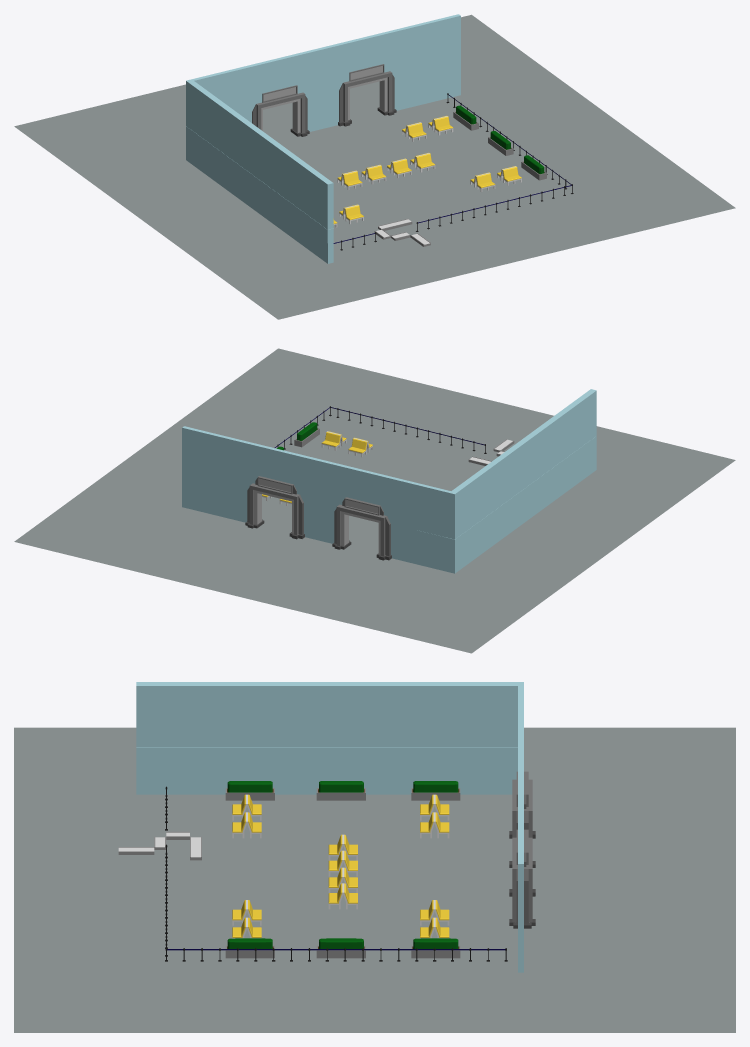
The model's file is CarryOnTestLevel.fbx.
3 views of the same model, one above another, from view 1: azimuth 30°, elevation 25°; view 2: azimuth 150°, elevation 25°; view 3: azimuth 270°, elevation 25° (orthographic). The views are drawn at different scales.
Parts seen in each view (by area): view 1: Plane, Wall, Gate, Gate.001; view 2: Plane, Wall, Gate.001, Gate; view 3: Plane, Wall, Gate, Gate.001, Bush.001, Bush.005, Bush.004, Bush.003, Bush, Bush.002.
Part boxes in pixels (bbox=[...]): Plane: bbox=[14, 14, 735, 319]; Wall: bbox=[186, 14, 460, 263]; Gate: bbox=[338, 64, 396, 126]; Gate.001: bbox=[252, 85, 309, 136]; Plane: bbox=[14, 348, 735, 653]; Wall: bbox=[182, 389, 596, 573]; Gate.001: bbox=[332, 497, 391, 560]; Gate: bbox=[245, 476, 304, 539]; Plane: bbox=[14, 727, 735, 1032]; Wall: bbox=[136, 682, 523, 972]; Gate: bbox=[509, 829, 535, 928]; Gate.001: bbox=[509, 771, 535, 867]; Bush.001: bbox=[316, 781, 365, 800]; Bush.005: bbox=[225, 938, 274, 958]; Bush.004: bbox=[316, 938, 365, 958]; Bush.003: bbox=[411, 938, 460, 958]; Bush: bbox=[411, 781, 460, 800]; Bush.002: bbox=[225, 781, 274, 800].
Size of the model in its own units: 12108 by 2048 by 12108.
